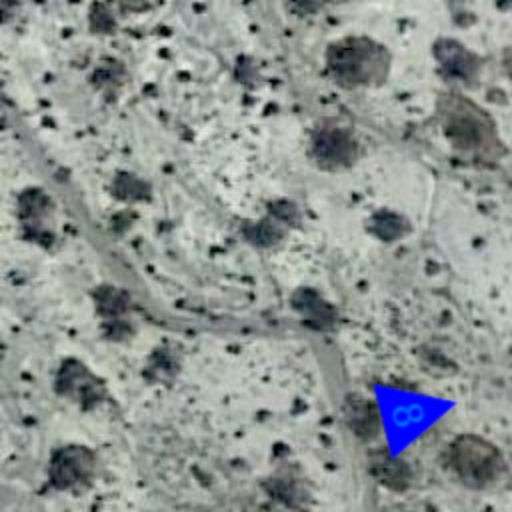triangle: (372, 364, 468, 460)
